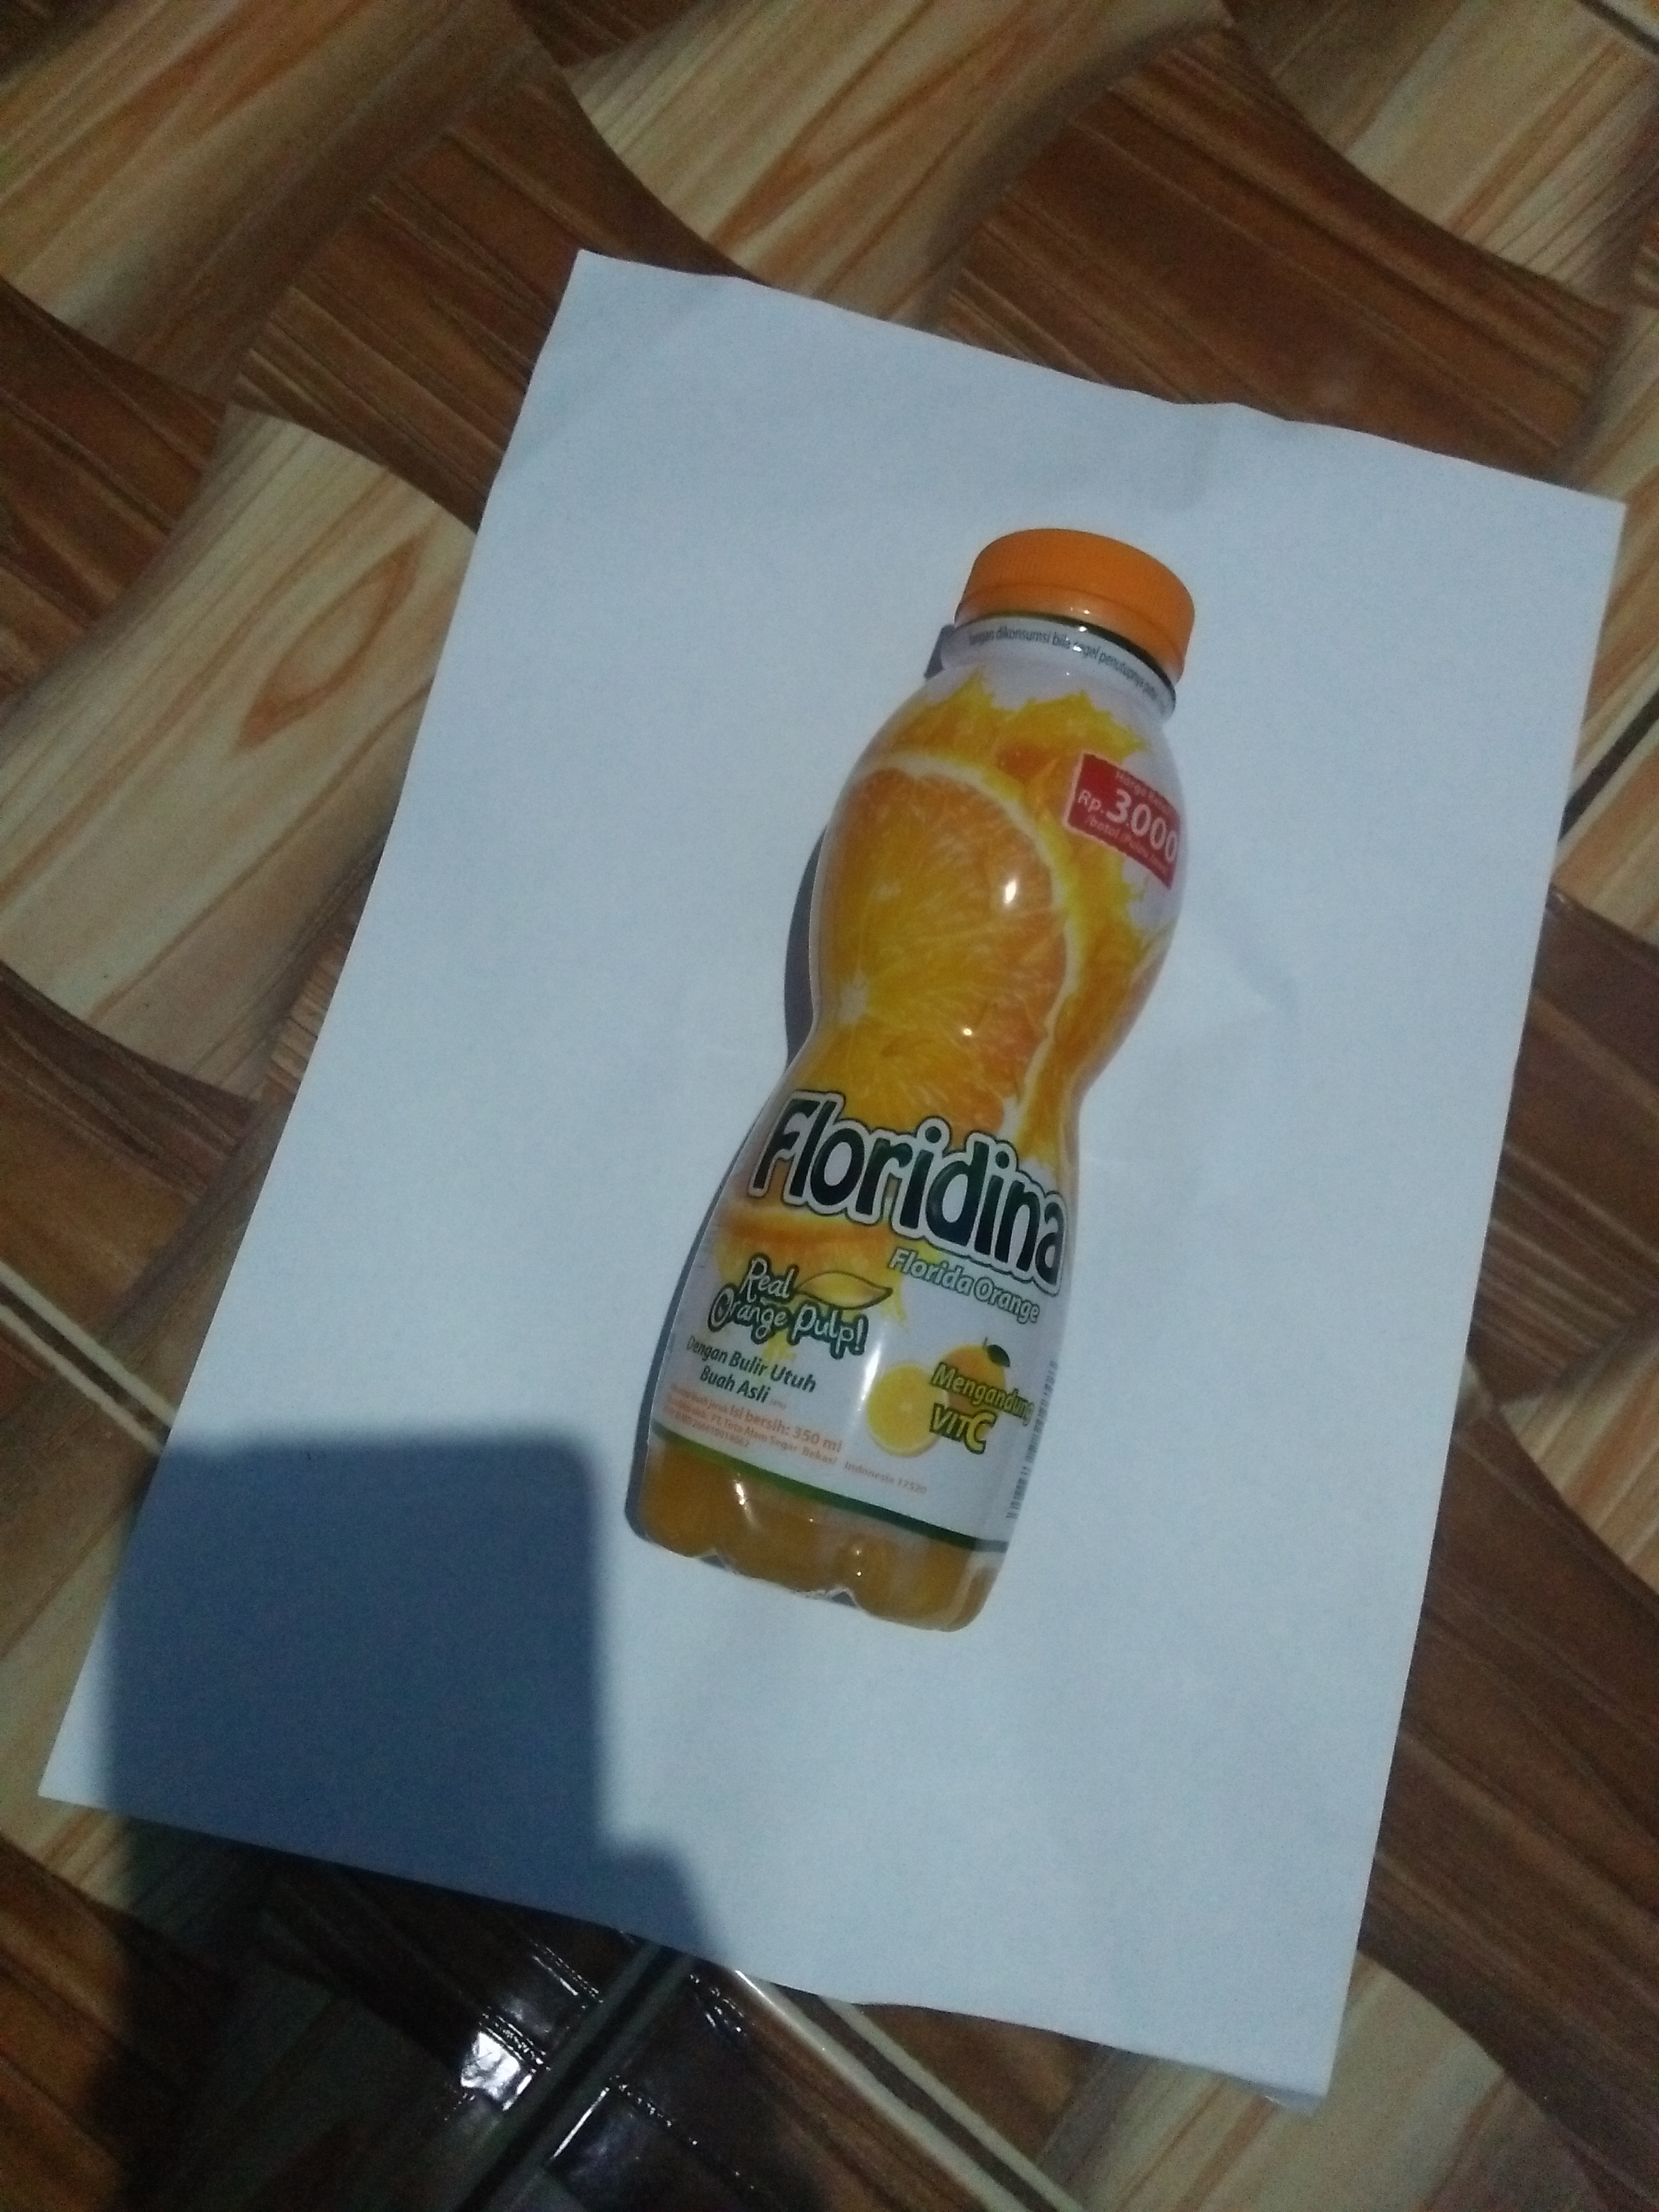Floridina: (631, 512, 1223, 1658)
